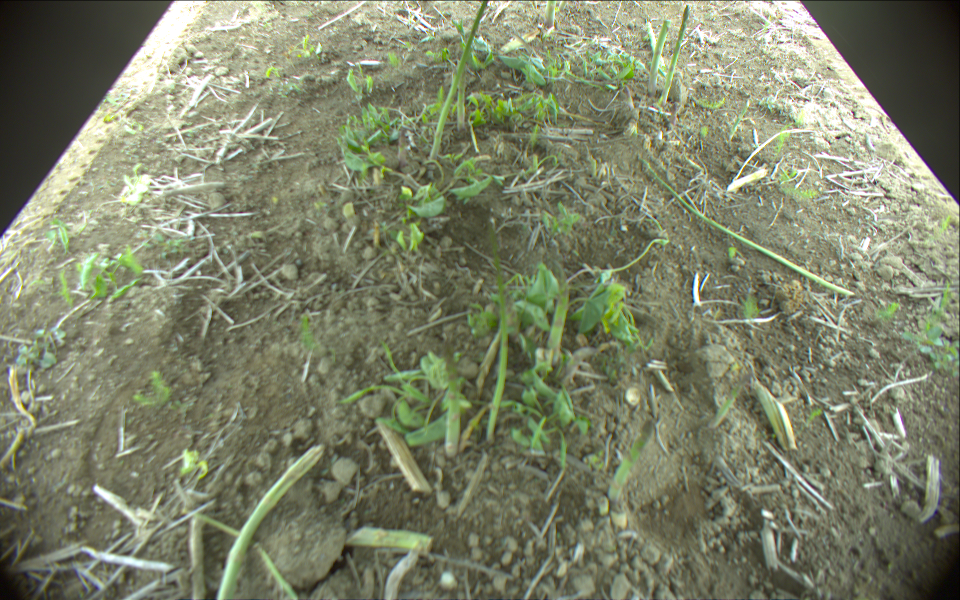aspa: (641, 158, 854, 297), (218, 444, 323, 600), (430, 1, 490, 158), (485, 224, 511, 445), (607, 421, 656, 505), (705, 367, 752, 428), (662, 6, 691, 103), (755, 384, 797, 448), (543, 261, 571, 354), (349, 526, 429, 555), (443, 340, 460, 456), (649, 21, 670, 93), (644, 20, 665, 74), (455, 66, 467, 130), (668, 102, 685, 126), (623, 87, 636, 113), (544, 1, 556, 29)
